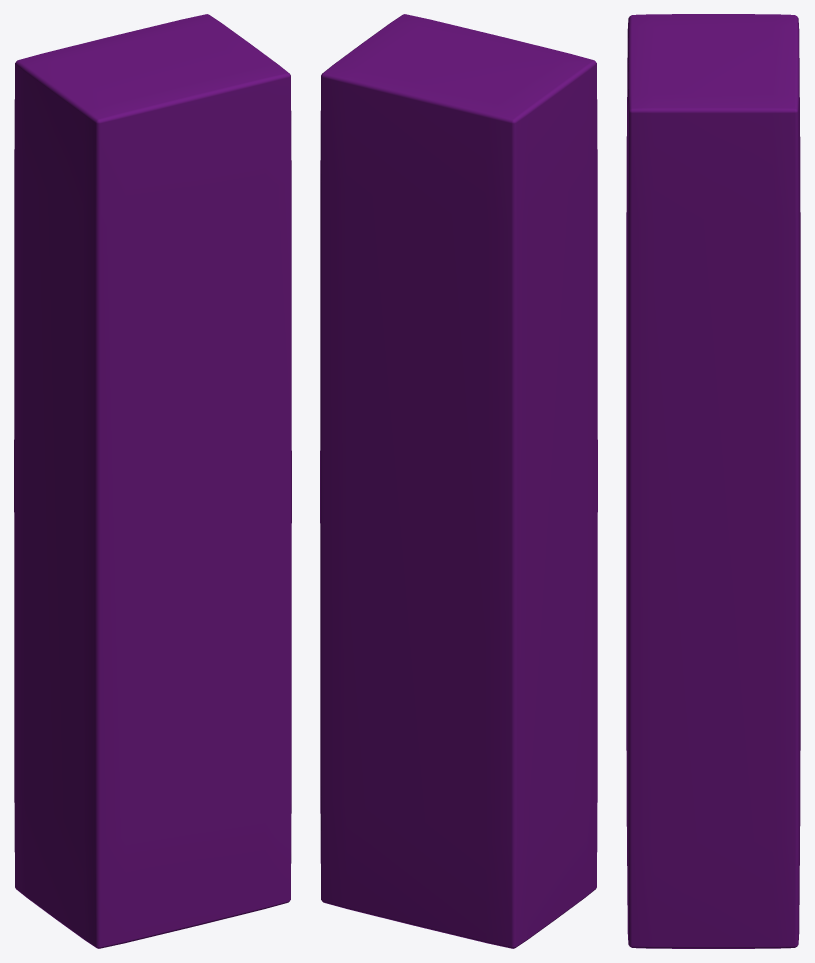
File: Foundation2.fbx
3 renders of one model, left to right at view 1: azimuth 30°, elevation 25°; view 2: azimuth 150°, elevation 25°; view 3: azimuth 270°, elevation 25°, orthographic.
Visible parts, largest first — view 1: Foundation2_High; view 2: Foundation2_High; view 3: Foundation2_High.
Part boxes in pixels (left/top/right/bottom): Foundation2_High: left=14, top=14, right=291, bottom=948; Foundation2_High: left=320, top=14, right=597, bottom=948; Foundation2_High: left=626, top=14, right=800, bottom=948.
Bounding box in the file's own units: 2 × 8 × 1.5.
